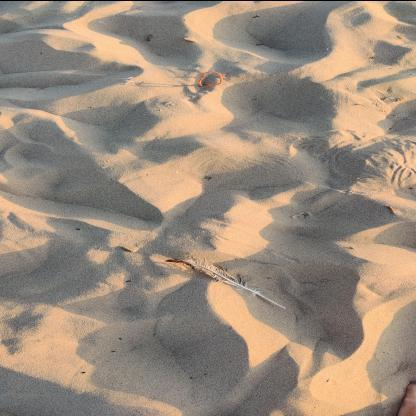diger: (200, 71, 228, 87)
